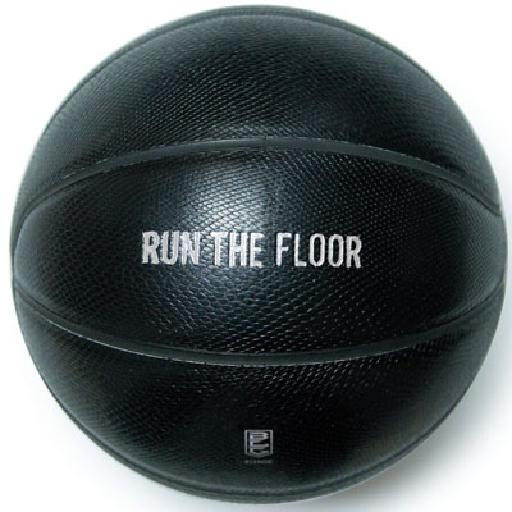ball: (11, 7, 506, 505)
